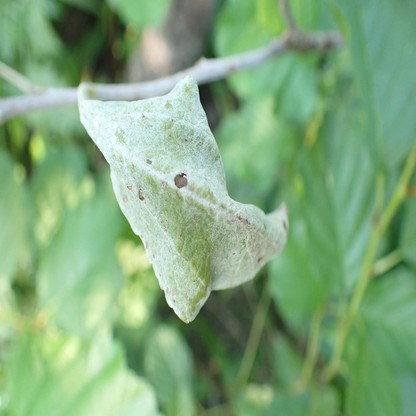powdery_mildew: (80, 81, 292, 316)
